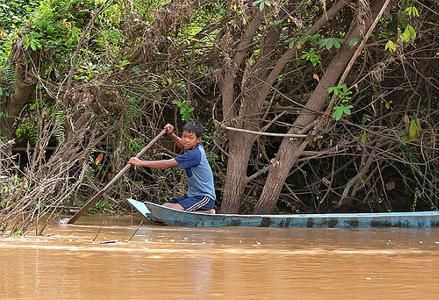person: (129, 124, 218, 216)
